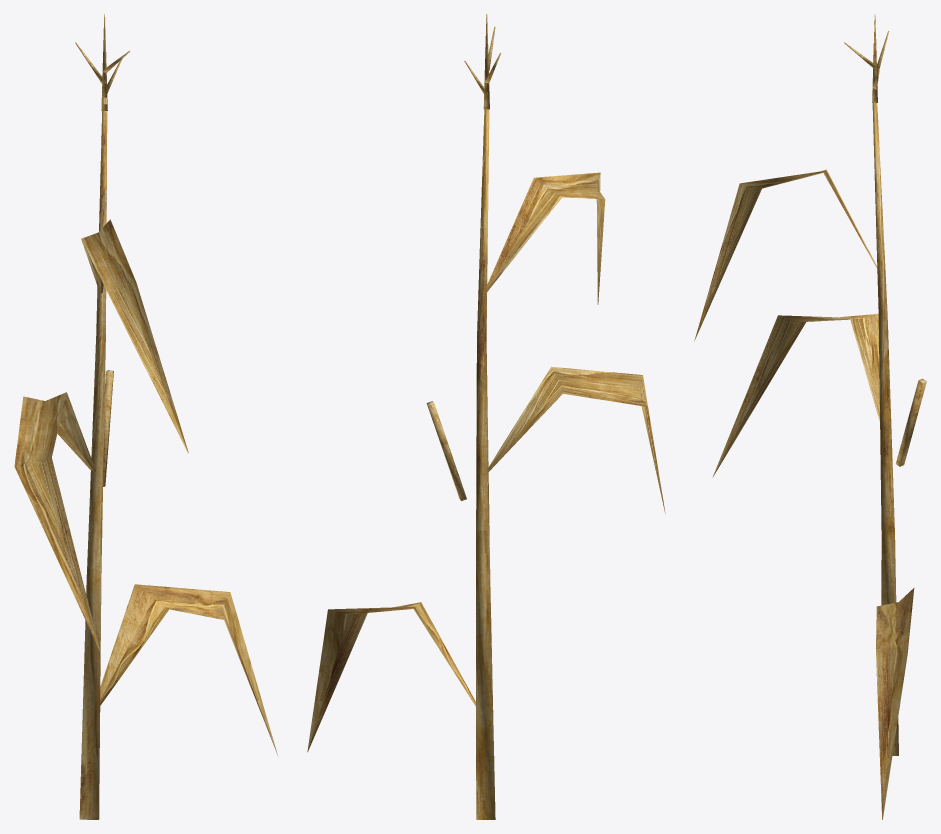
File: Corn_A_Far.fbx
3 views of the same model, side by side, from view 1: azimuth 30°, elevation 25°; view 2: azimuth 150°, elevation 25°; view 3: azimuth 270°, elevation 25° (orthographic). The views are drawn at different scales.
Parts seen in each view (by area): view 1: Corn_A_Far; view 2: Corn_A_Far; view 3: Corn_A_Far.
Boxes of the visible parts, x1,y1,x2,y2 form: Corn_A_Far: (14, 14, 277, 819); Corn_A_Far: (307, 14, 665, 819); Corn_A_Far: (694, 14, 926, 819).
Size of the model in its own units: 3.16 by 8 by 2.27.
Materials: 1 (1 with a texture image).
